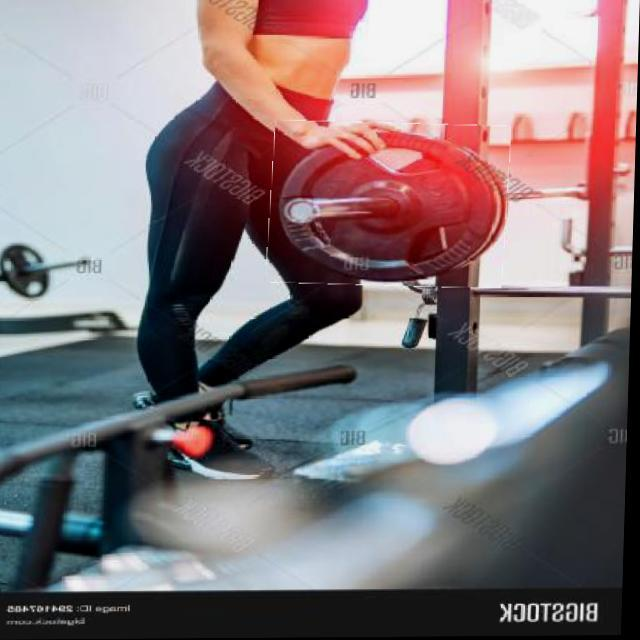barbell: (269, 122, 511, 289)
